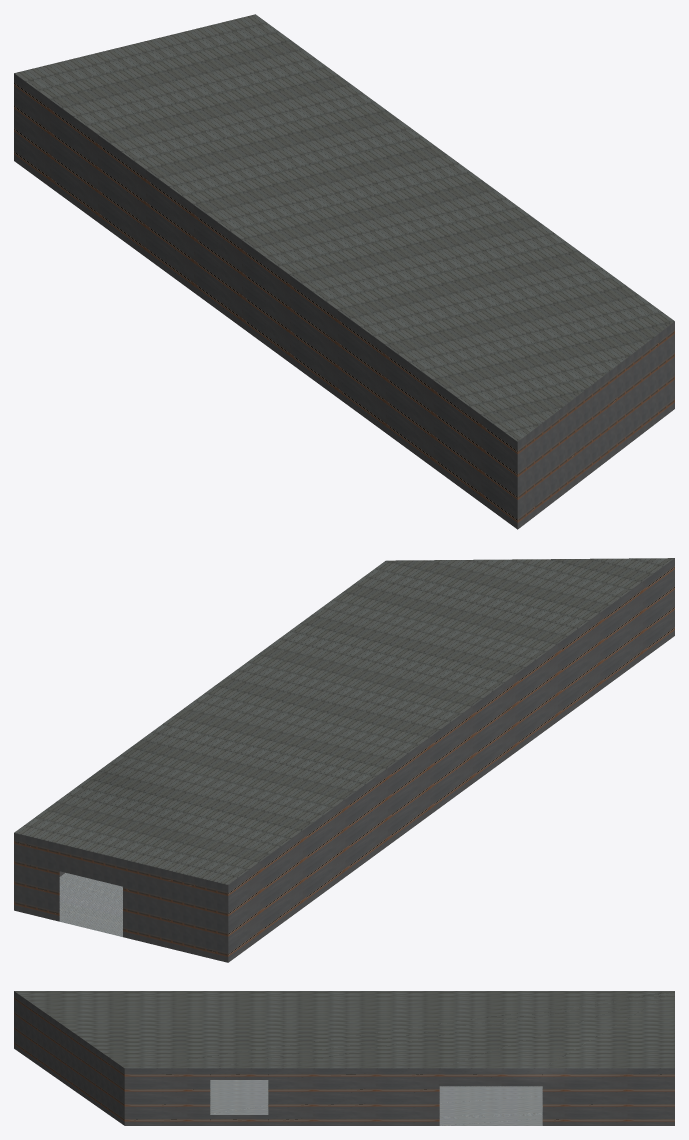
File: north_section.FBX
3 renders of one model, top to bottom at view 1: azimuth 30°, elevation 25°; view 2: azimuth 150°, elevation 25°; view 3: azimuth 270°, elevation 25°, orthographic. The views are drawn at different scales.
Parts seen in each view (by area): view 1: North_Section; view 2: North_Section; view 3: North_Section.
Part boxes in pixels (<box>): North_Section: <box>14,14,674,529</box>; North_Section: <box>14,558,674,962</box>; North_Section: <box>14,991,674,1125</box>.
Bounding box in the file's own units: 315 × 109 × 1136.
